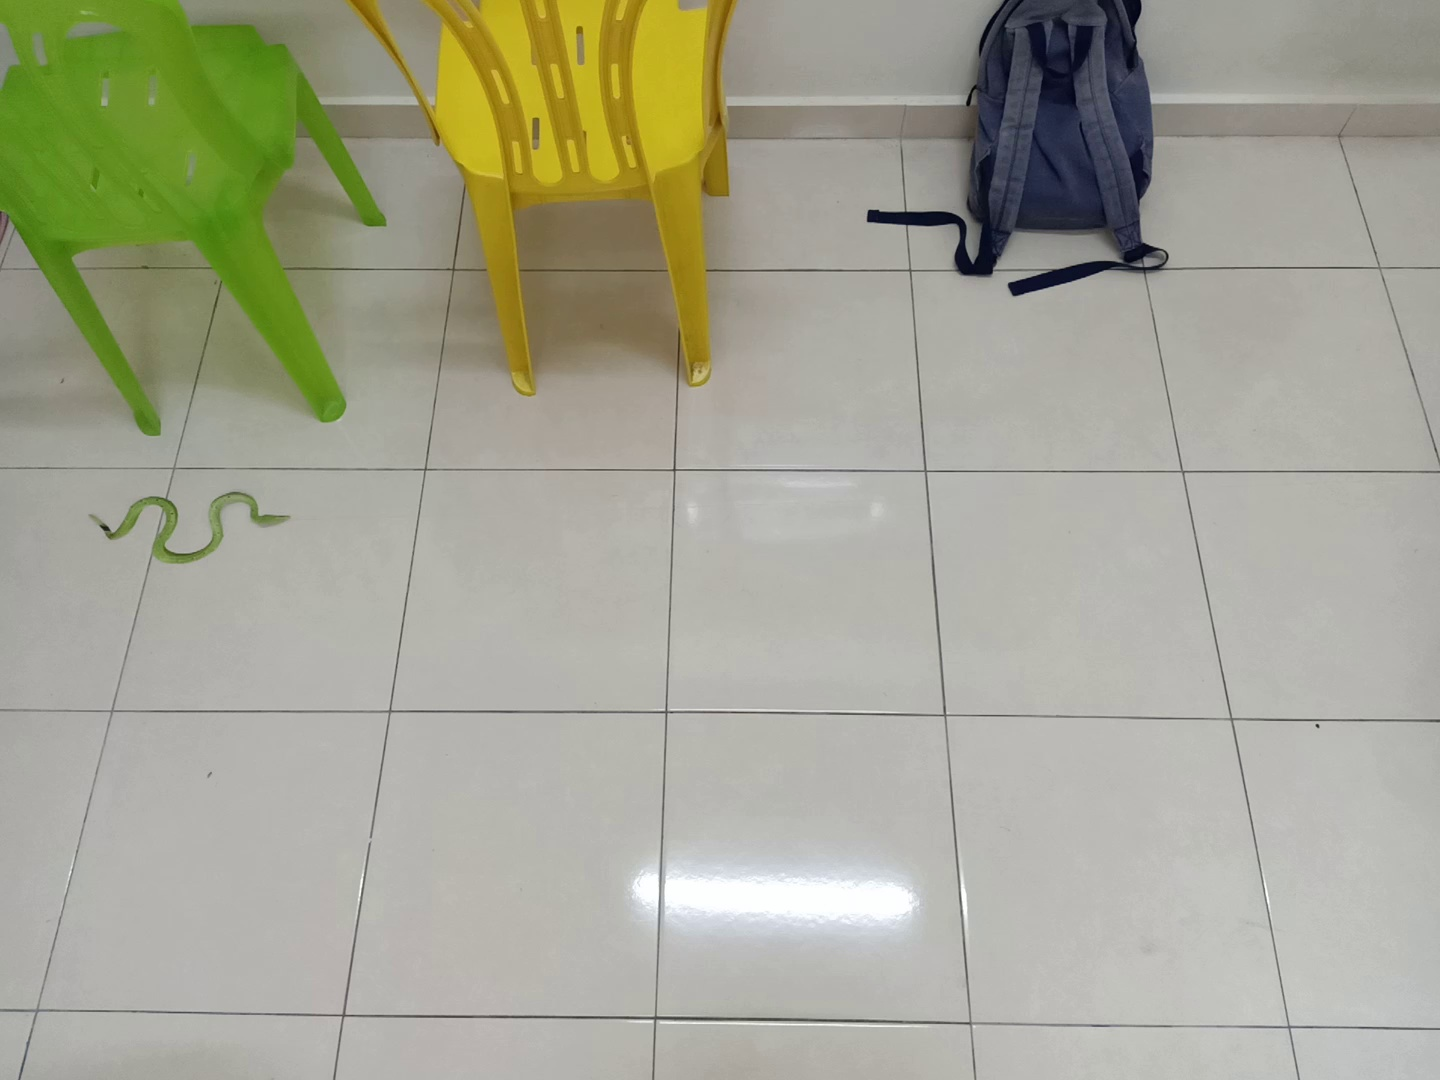snake: (84, 479, 300, 571)
